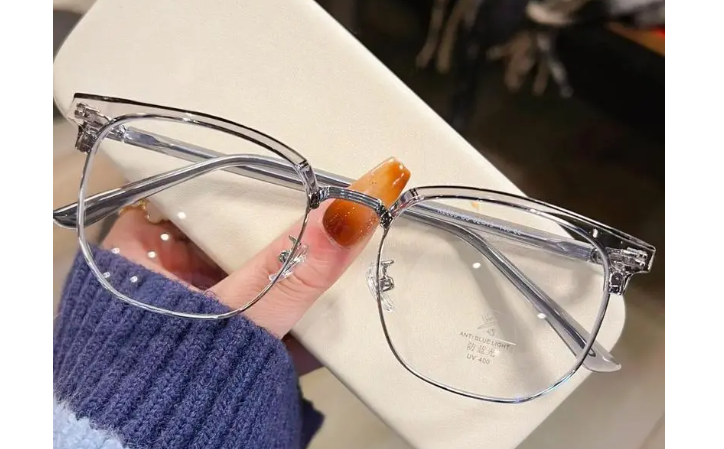glass: (66, 78, 660, 409)
